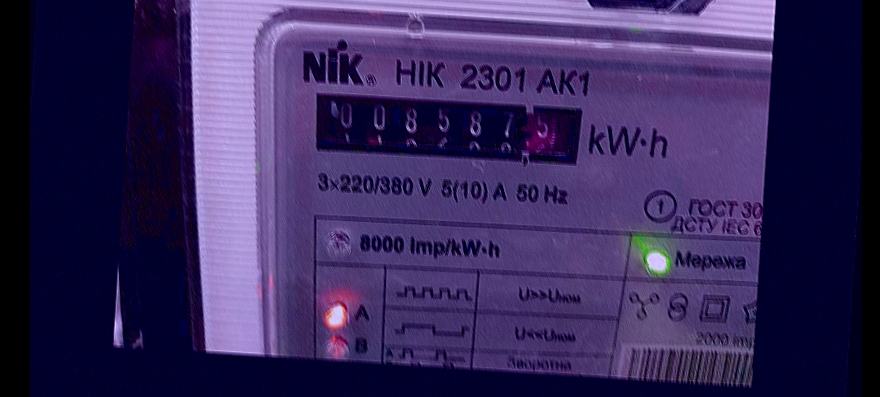0: (336, 98, 355, 128), (370, 101, 389, 130)
5: (534, 111, 553, 141), (434, 104, 453, 133)
7: (498, 107, 517, 138)
8: (466, 106, 485, 137), (402, 104, 420, 133)
screen: (294, 76, 601, 177)
